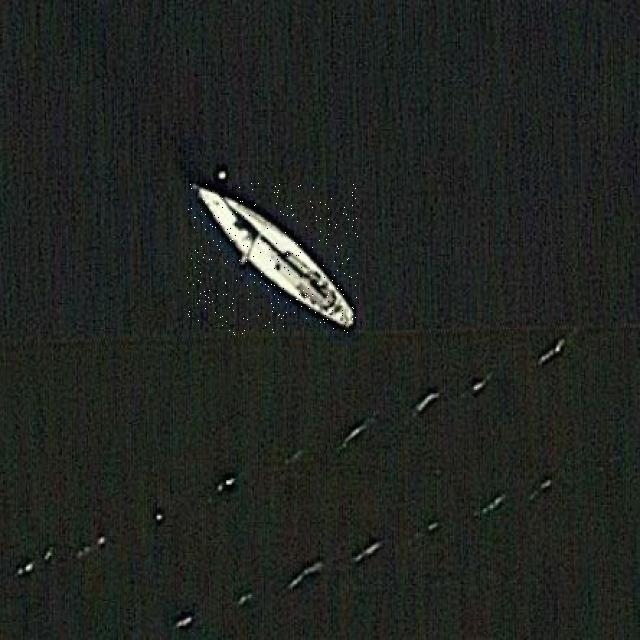boat: (187, 184, 359, 336)
